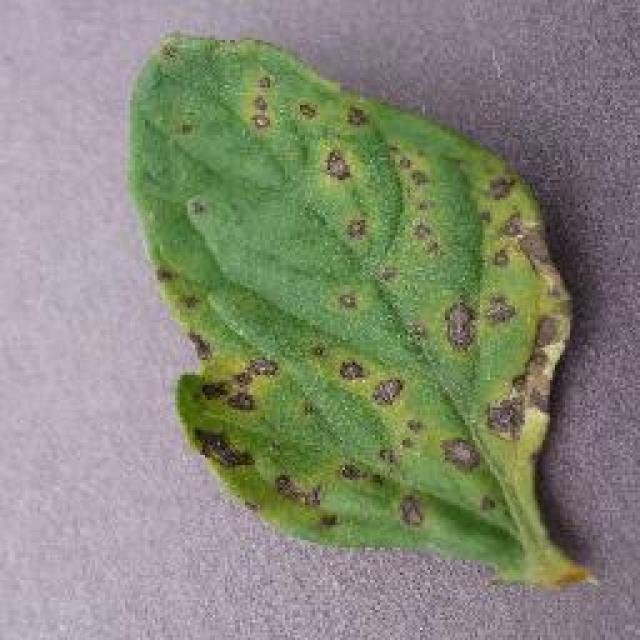Tomato___Septoria_leaf_spot: (130, 32, 595, 582)
